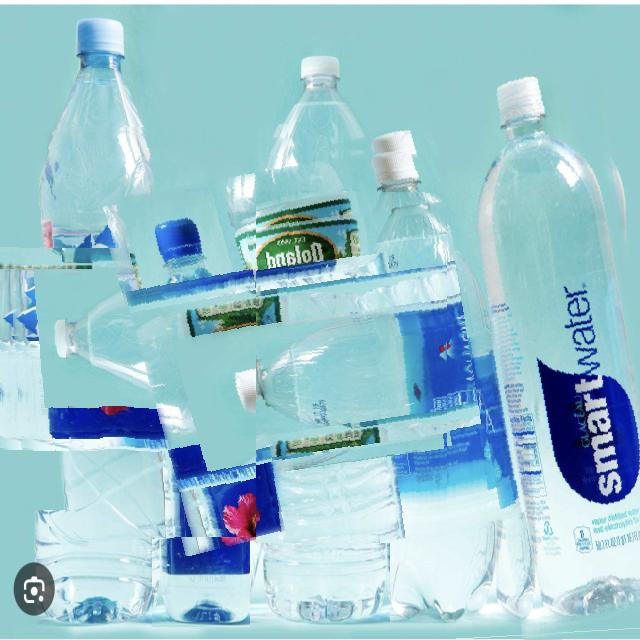recyclable: (118, 134, 522, 537), (256, 190, 610, 543), (447, 47, 640, 640), (0, 125, 292, 510), (62, 248, 352, 539)
